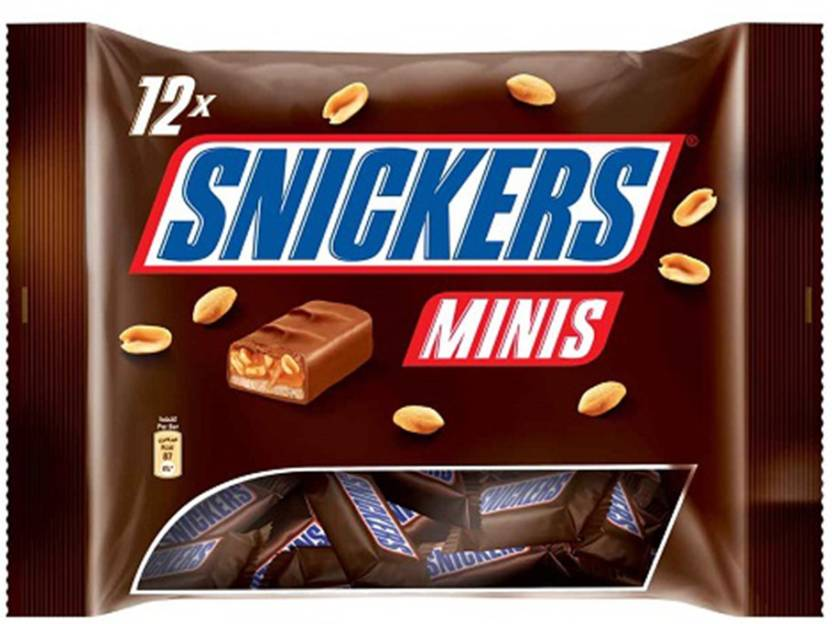snickers: (156, 143, 666, 259)
